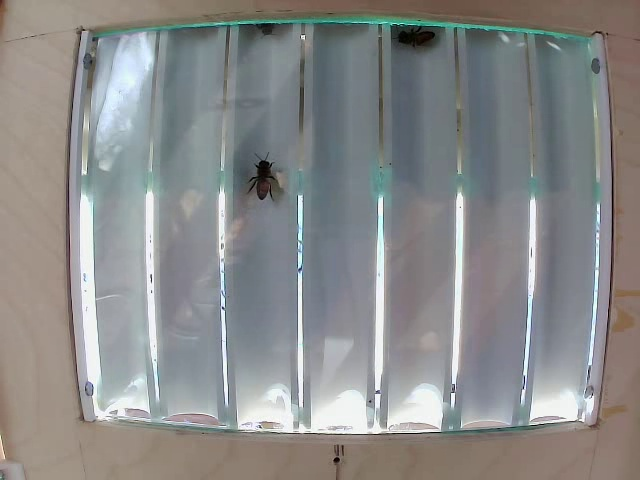bee: (245, 157, 281, 201)
